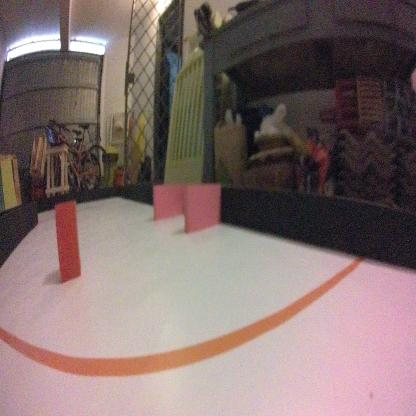magenta: (180, 180, 223, 238), (150, 181, 184, 220)
red: (52, 198, 82, 278)
